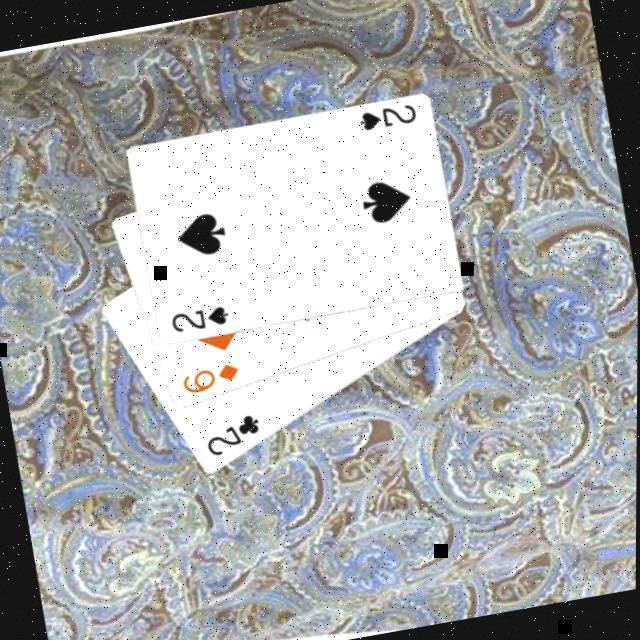2C: (197, 412, 265, 464)
2S: (164, 304, 232, 341), (352, 101, 419, 138)
6D: (175, 361, 242, 401)
